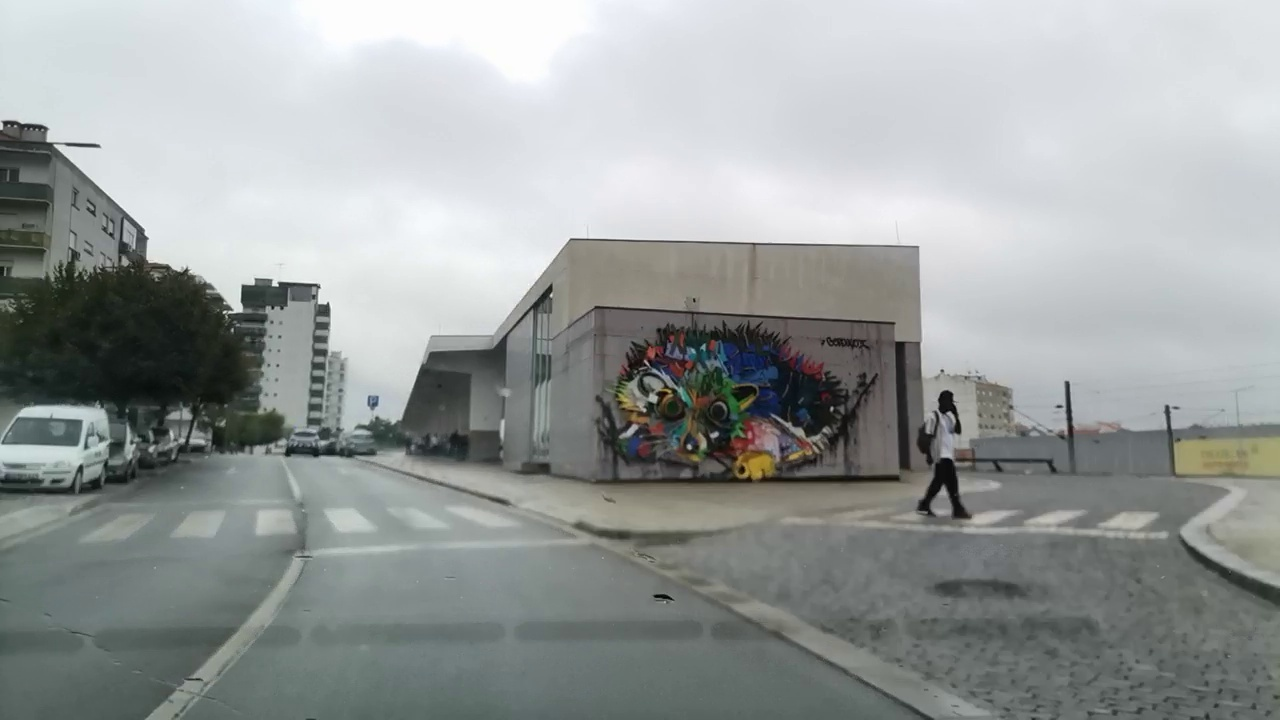Stairs: (34, 503, 525, 548)
